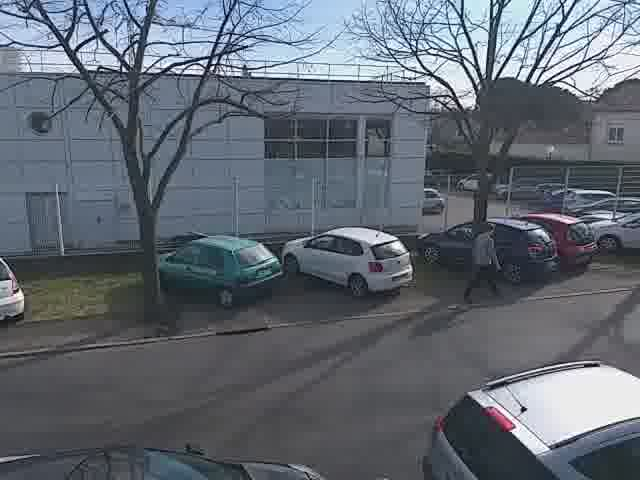persona: (463, 209, 506, 304)
